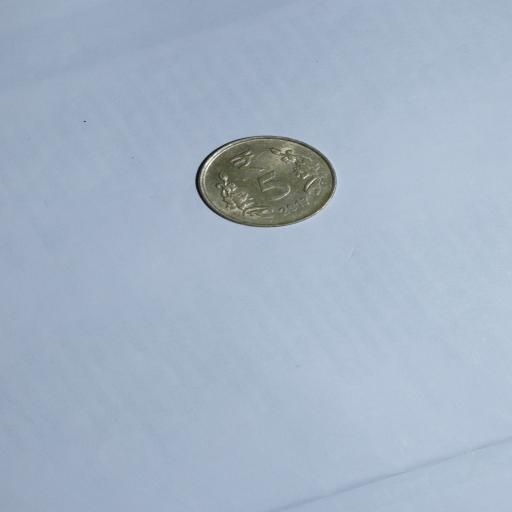rupee5: (191, 134, 338, 228)
